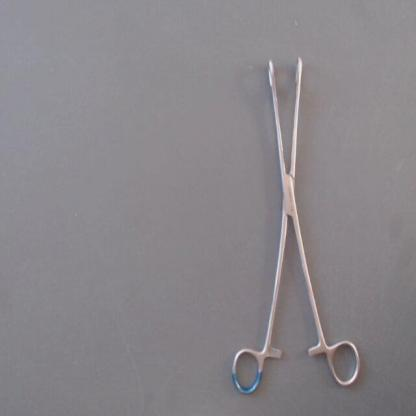Sponge Forceps: (226, 40, 369, 401)
